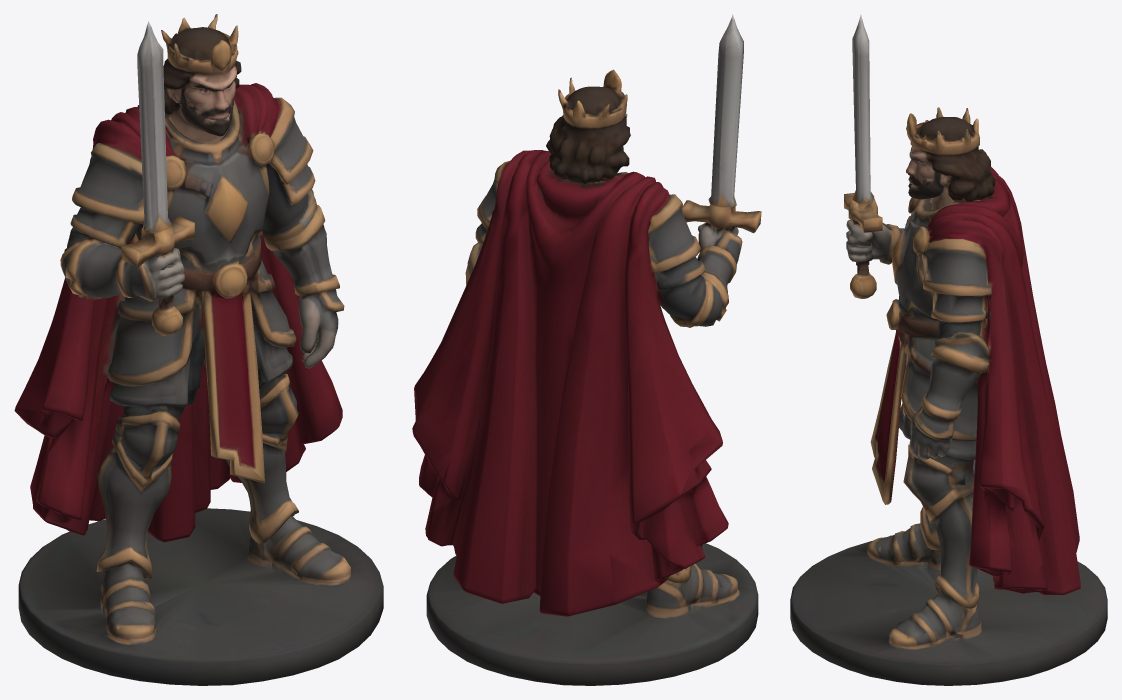
The model's file is king-arthur-tripo-5cb29330-retopo-10k.glb.
3 views of the same model, side by side, from view 1: azimuth 30°, elevation 25°; view 2: azimuth 150°, elevation 25°; view 3: azimuth 270°, elevation 25° (orthographic). The views are drawn at different scales.
Visible parts, largest first — view 1: tripo_node_5f8b3c87-f125-46e5-a0ee-4a0622274186; view 2: tripo_node_5f8b3c87-f125-46e5-a0ee-4a0622274186; view 3: tripo_node_5f8b3c87-f125-46e5-a0ee-4a0622274186.
Boxes of the visible parts, bbox=[...] form: tripo_node_5f8b3c87-f125-46e5-a0ee-4a0622274186: bbox=[14, 14, 383, 685]; tripo_node_5f8b3c87-f125-46e5-a0ee-4a0622274186: bbox=[412, 14, 761, 685]; tripo_node_5f8b3c87-f125-46e5-a0ee-4a0622274186: bbox=[790, 14, 1107, 685].
Bounding box in the file's own units: 0.5075 × 0.9786 × 0.4999.
Materials: 1 (1 with a texture image).
